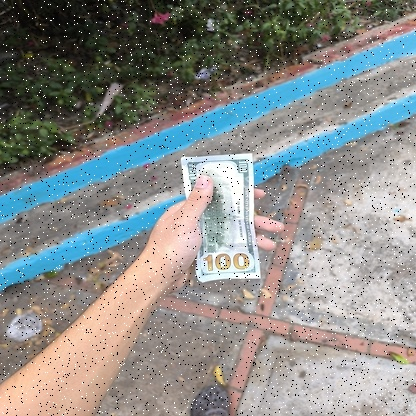one_hundred-back: (181, 154, 265, 282)
